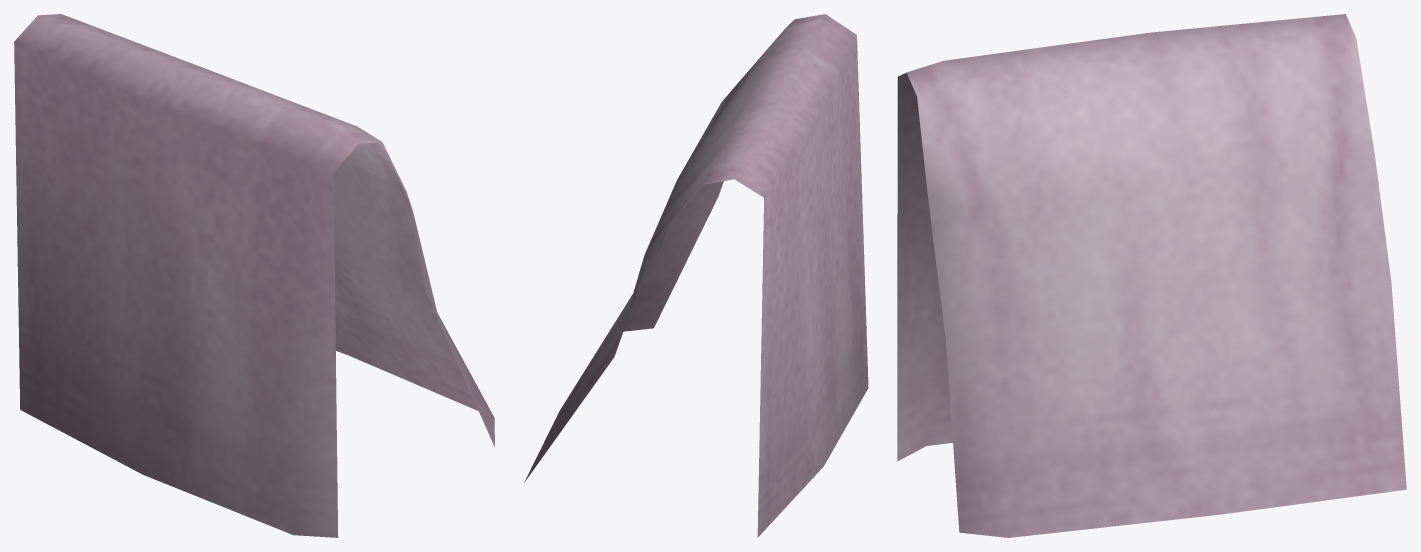
Rendered from ShenMiRenJia_01_maojin_01.FBX.
3 renders of one model, left to right at view 1: azimuth 30°, elevation 25°; view 2: azimuth 150°, elevation 25°; view 3: azimuth 270°, elevation 25°, orthographic. The views are drawn at different scales.
Parts seen in each view (by area): view 1: ShenMiRenJia_01_maojin_01; view 2: ShenMiRenJia_01_maojin_01; view 3: ShenMiRenJia_01_maojin_01.
Part boxes in pixels (x1,y1,x2,y2): ShenMiRenJia_01_maojin_01: (14, 14, 494, 537); ShenMiRenJia_01_maojin_01: (524, 14, 868, 537); ShenMiRenJia_01_maojin_01: (897, 14, 1406, 537).
Bounding box in the file's own units: 175 × 202 × 228.
